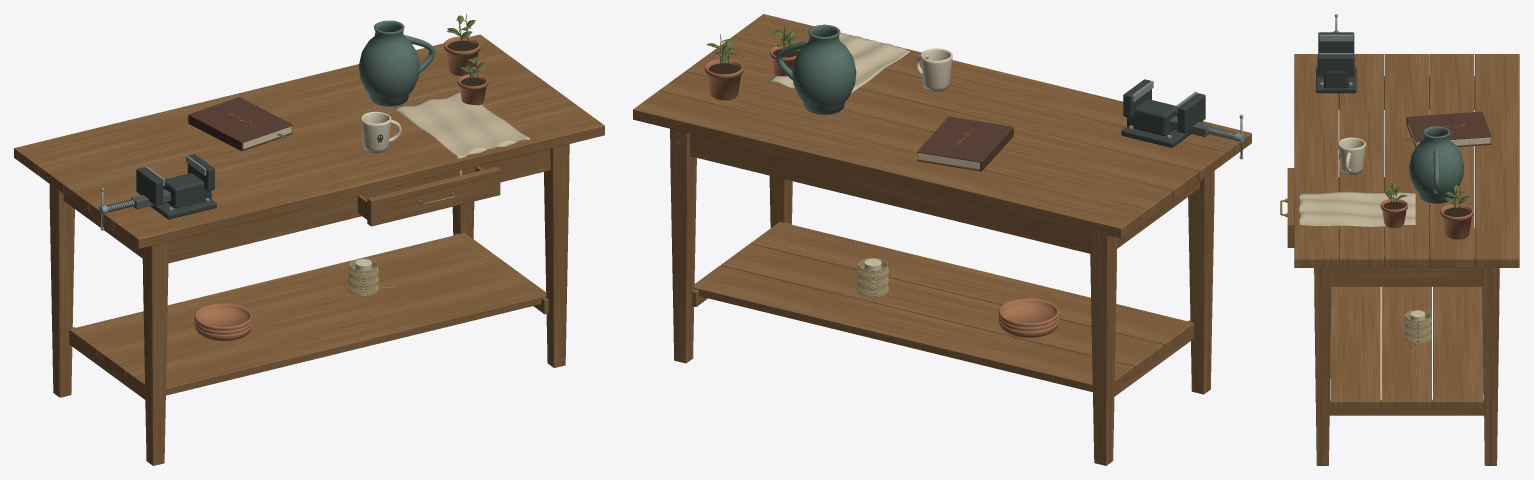
The model's file is worktable-hero.glb.
3 renders of one model, left to right at view 1: azimuth 30°, elevation 25°; view 2: azimuth 150°, elevation 25°; view 3: azimuth 270°, elevation 25°, orthographic. The views are drawn at different scales.
Parts seen in each view (by area): view 1: static__oak_waxed_long_grain, static__washed_flax_linen, stoneware_garden_jug__sage_fired_glaze, drawer_pull_out__oak_waxed_long_grain, garden_journal__journal_oxblood_leather, static__vise_cast_iron_paint, static__unglazed_terracotta, stoneware_cup__ivory_stoneware_glaze, static__garden_twine, clay_seedling_basil__unglazed_terracotta, vise_moving_jaw__vise_cast_iron_paint, clay_seedling_oregano__unglazed_terracotta; view 2: static__oak_waxed_long_grain, stoneware_garden_jug__sage_fired_glaze, garden_journal__journal_oxblood_leather, static__vise_cast_iron_paint, static__unglazed_terracotta, static__washed_flax_linen, stoneware_cup__ivory_stoneware_glaze, clay_seedling_basil__unglazed_terracotta, static__garden_twine, vise_moving_jaw__vise_cast_iron_paint; view 3: static__oak_waxed_long_grain, static__washed_flax_linen, stoneware_garden_jug__sage_fired_glaze, garden_journal__journal_oxblood_leather, static__vise_cast_iron_paint, stoneware_cup__ivory_stoneware_glaze, clay_seedling_basil__unglazed_terracotta, drawer_pull_out__oak_waxed_long_grain, static__garden_twine, vise_moving_jaw__vise_cast_iron_paint, clay_seedling_oregano__unglazed_terracotta, vise_moving_jaw__polished_steel_edges (+1 smaller).
Boxes of the visible parts, <box> form: static__oak_waxed_long_grain: <box>14,34,604,465</box>; static__washed_flax_linen: <box>393,91,529,175</box>; stoneware_garden_jug__sage_fired_glaze: <box>359,20,434,105</box>; drawer_pull_out__oak_waxed_long_grain: <box>357,166,500,226</box>; garden_journal__journal_oxblood_leather: <box>188,97,292,151</box>; static__vise_cast_iron_paint: <box>150,154,216,219</box>; static__unglazed_terracotta: <box>194,303,252,341</box>; stoneware_cup__ivory_stoneware_glaze: <box>361,111,401,152</box>; static__garden_twine: <box>348,258,396,296</box>; clay_seedling_basil__unglazed_terracotta: <box>444,36,480,76</box>; vise_moving_jaw__vise_cast_iron_paint: <box>136,167,163,205</box>; clay_seedling_oregano__unglazed_terracotta: <box>458,74,488,105</box>; static__oak_waxed_long_grain: <box>633,14,1251,465</box>; stoneware_garden_jug__sage_fired_glaze: <box>776,24,856,114</box>; garden_journal__journal_oxblood_leather: <box>917,116,1013,171</box>; static__vise_cast_iron_paint: <box>1121,79,1190,147</box>; static__unglazed_terracotta: <box>998,298,1058,337</box>; static__washed_flax_linen: <box>769,33,911,93</box>; stoneware_cup__ivory_stoneware_glaze: <box>915,48,952,91</box>; clay_seedling_basil__unglazed_terracotta: <box>704,58,743,100</box>; static__garden_twine: <box>845,258,888,297</box>; vise_moving_jaw__vise_cast_iron_paint: <box>1177,93,1205,133</box>; static__oak_waxed_long_grain: <box>1294,54,1519,465</box>; static__washed_flax_linen: <box>1298,191,1415,226</box>; stoneware_garden_jug__sage_fired_glaze: <box>1409,126,1464,203</box>; garden_journal__journal_oxblood_leather: <box>1406,111,1491,148</box>; static__vise_cast_iron_paint: <box>1316,54,1356,93</box>; stoneware_cup__ivory_stoneware_glaze: <box>1338,137,1365,174</box>; clay_seedling_basil__unglazed_terracotta: <box>1440,203,1473,239</box>; drawer_pull_out__oak_waxed_long_grain: <box>1287,168,1429,247</box>; static__garden_twine: <box>1404,310,1431,352</box>; vise_moving_jaw__vise_cast_iron_paint: <box>1318,32,1354,54</box>; clay_seedling_oregano__unglazed_terracotta: <box>1380,198,1407,228</box>; vise_moving_jaw__polished_steel_edges: <box>1319,14,1353,41</box>.
Size of the model in its own units: 1.6 by 1.01 by 0.762.
19 materials, 4 textured.
